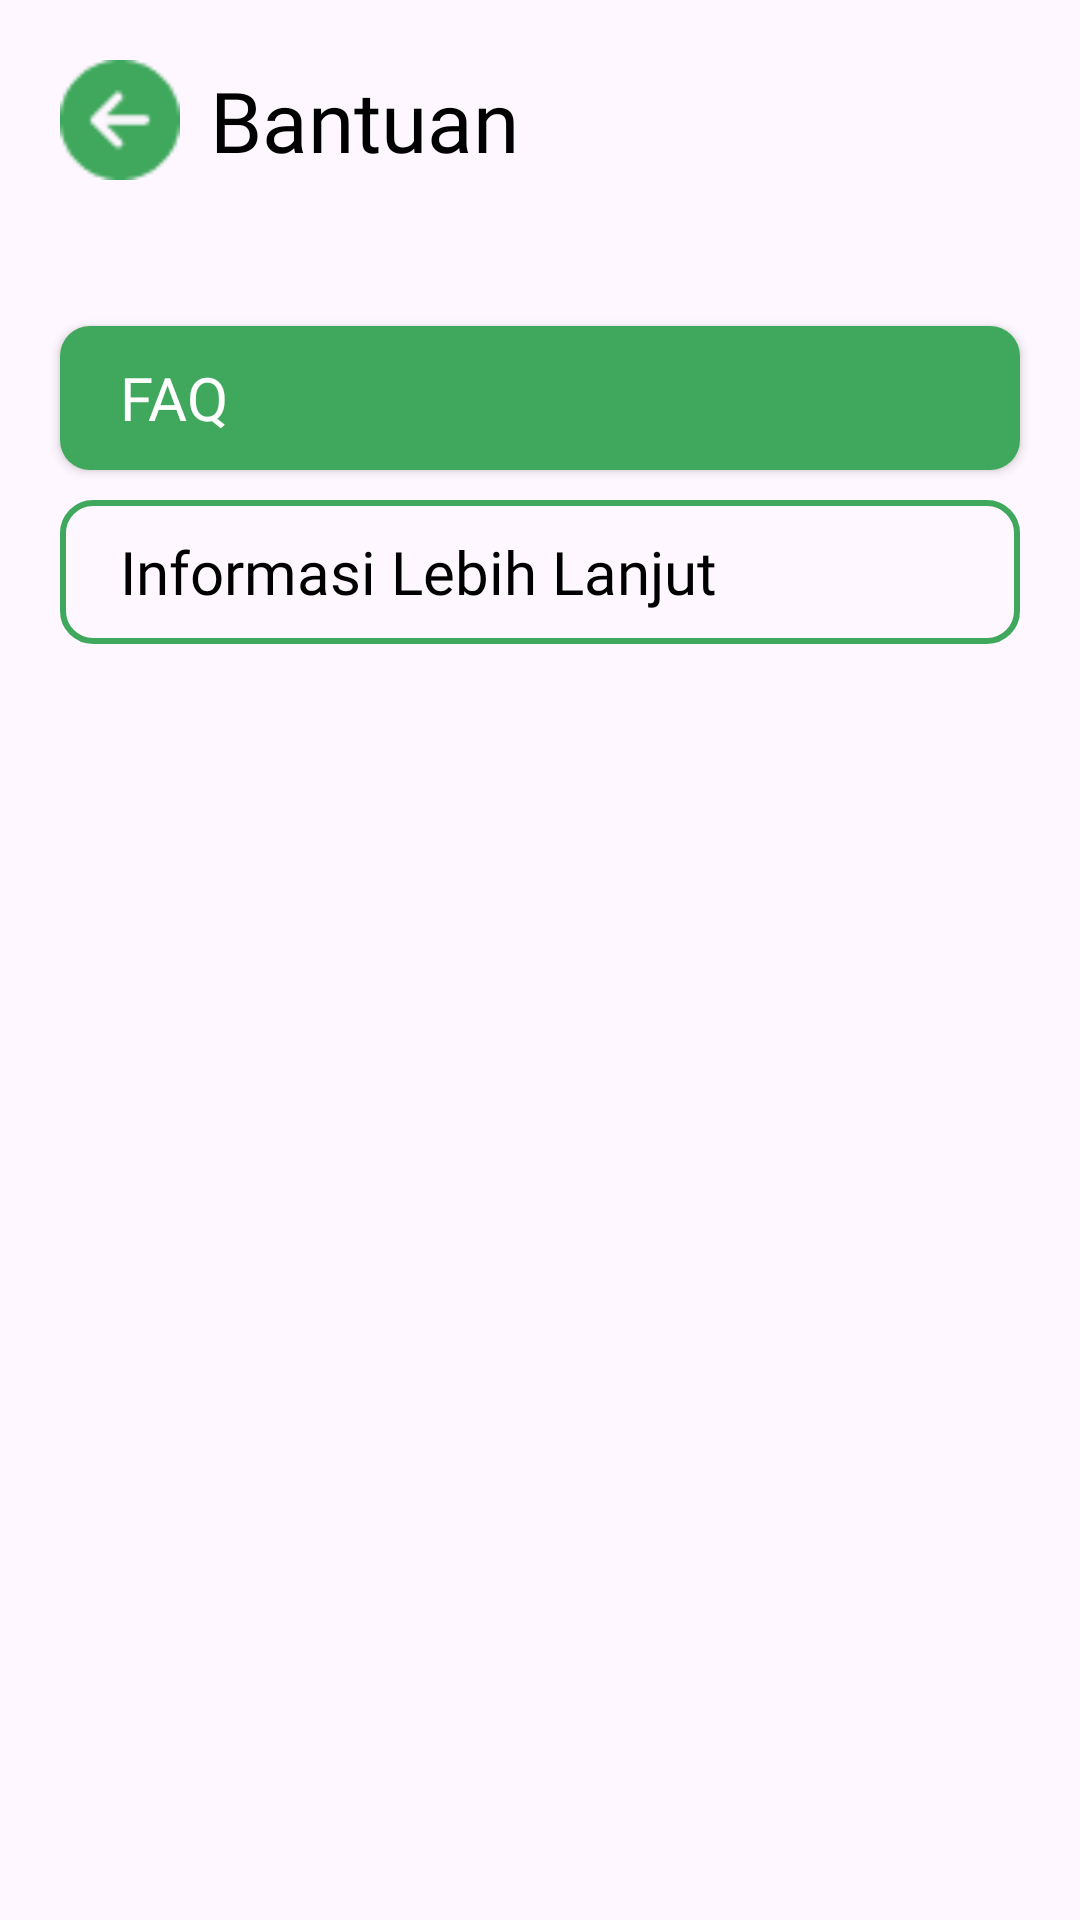

Point at icon controls on the screen. Image size 1080px x 1920px, points as (x,y).
back: (120,120)
